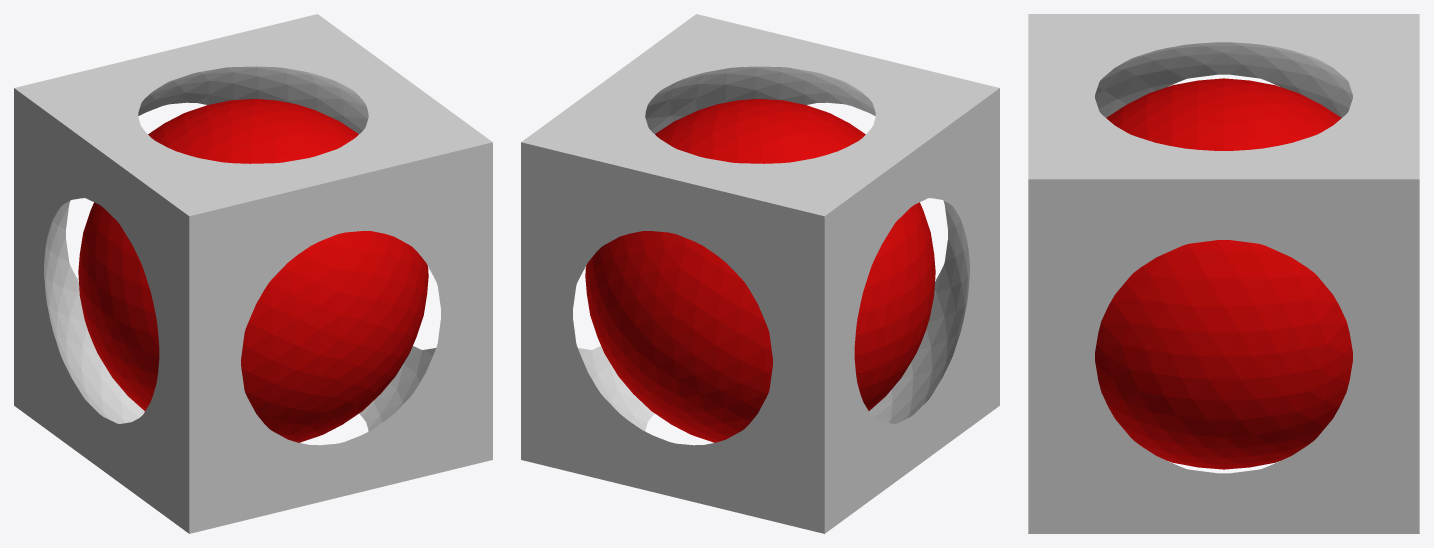
Rendered from cube_with_inner_sphere.glb.
3 views of the same model, side by side, from view 1: azimuth 30°, elevation 25°; view 2: azimuth 150°, elevation 25°; view 3: azimuth 270°, elevation 25° (orthographic). The views are drawn at different scales.
Visible parts, largest first — view 1: world; view 2: world; view 3: world.
Part boxes in pixels (bbox=[...]): world: bbox=[14, 14, 492, 533]; world: bbox=[521, 14, 999, 533]; world: bbox=[1028, 14, 1419, 533].
Bounding box in the file's own units: 1 × 1 × 1.
